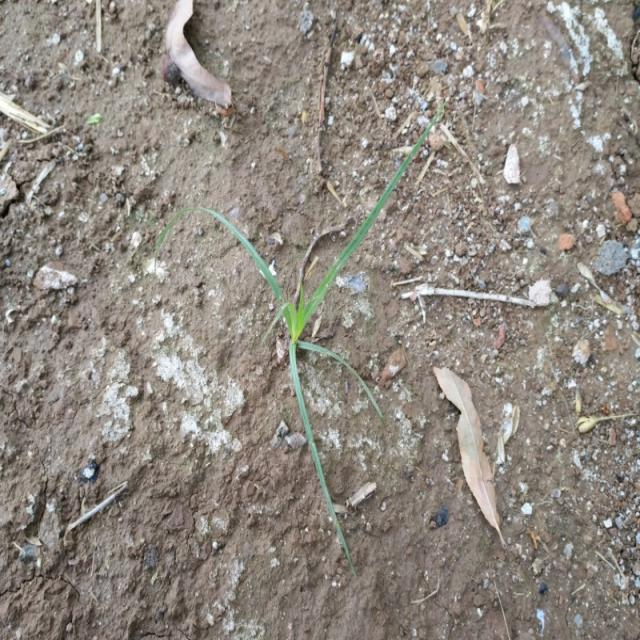sedge: (195, 112, 458, 508), (163, 137, 454, 474)
